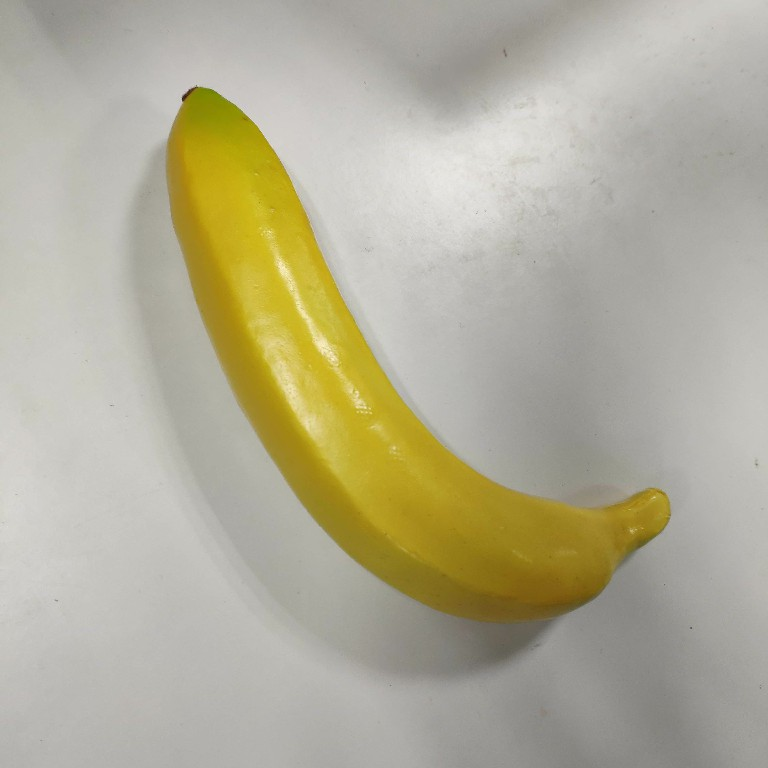fruit_banana: (162, 83, 674, 627)
